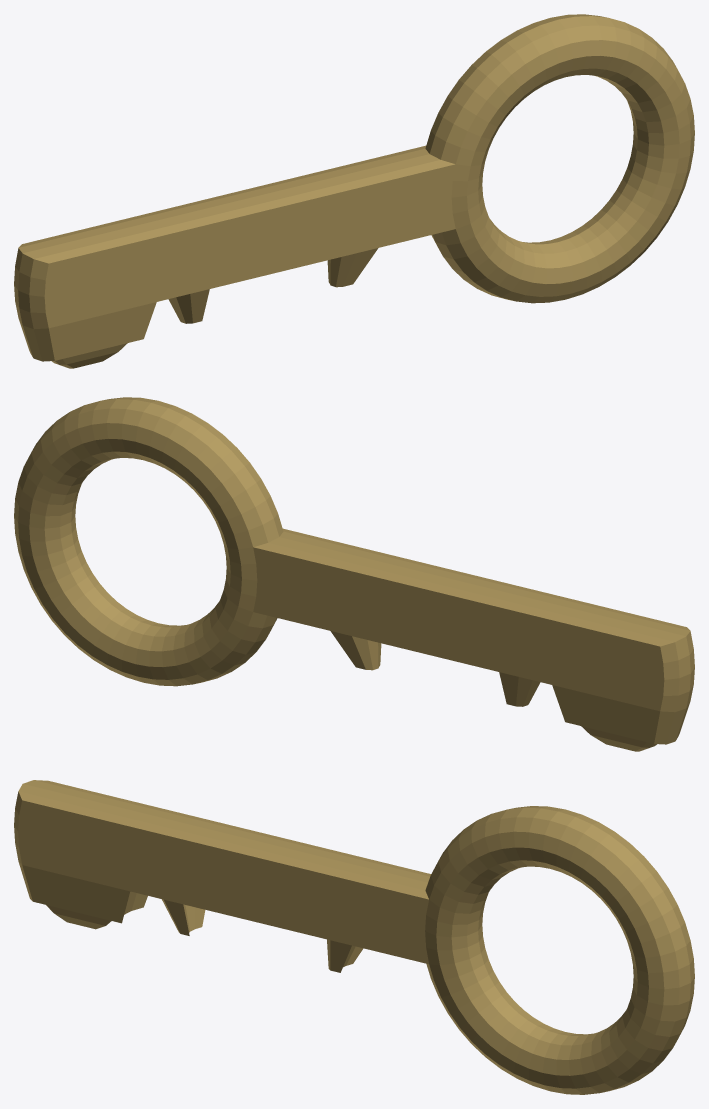
Rendered from chiave_a_pezzi.fbx.
The picture shows the model from 3 angles, top to bottom: view 1: azimuth 30°, elevation 25°; view 2: azimuth 150°, elevation 25°; view 3: azimuth 330°, elevation 25°; orthographic projection.
Parts seen in each view (by area): view 1: Torus.001, Torus, Torus.002; view 2: Torus.001, Torus, Torus.002; view 3: Torus.001, Torus, Torus.002.
Part boxes in pixels (left/top/right/bottom): Torus.001: left=348, top=14, right=694, bottom=303; Torus: left=14, top=205, right=209, bottom=368; Torus.002: left=179, top=163, right=378, bottom=288; Torus.001: left=14, top=397, right=360, bottom=686; Torus: left=499, top=588, right=694, bottom=751; Torus.002: left=330, top=546, right=529, bottom=671; Torus.001: left=348, top=806, right=694, bottom=1094; Torus: left=14, top=780, right=208, bottom=935; Torus.002: left=179, top=819, right=377, bottom=972.
Size of the model in its own units: 18.63 by 7.36 by 1.47.
